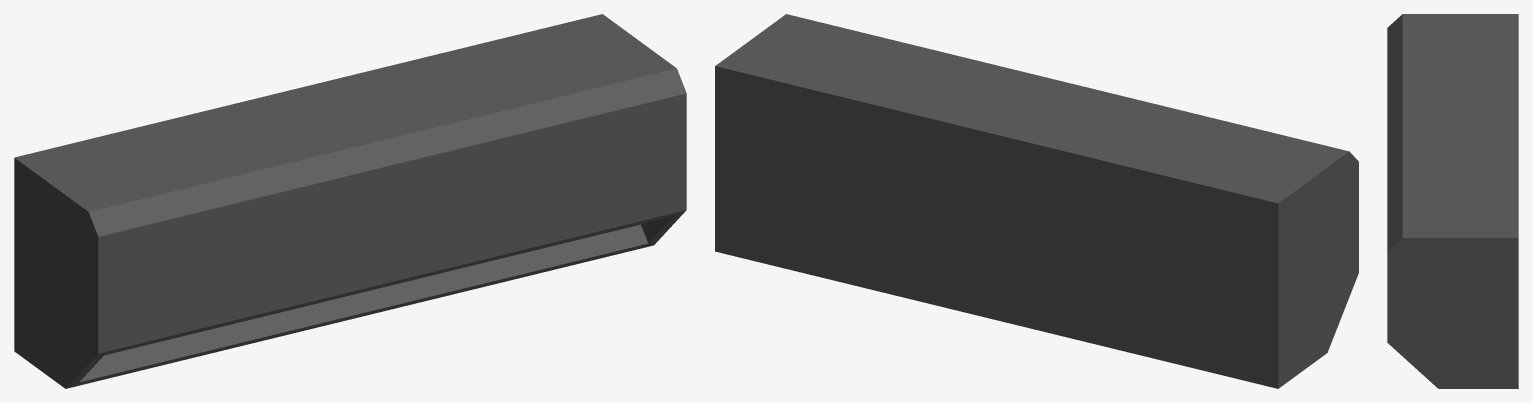
Rendered from Itr_Airconditioner3_Body_03.FBX.
3 renders of one model, left to right at view 1: azimuth 30°, elevation 25°; view 2: azimuth 150°, elevation 25°; view 3: azimuth 270°, elevation 25°, orthographic. The views are drawn at different scales.
Parts seen in each view (by area): view 1: Itr_Airconditioner3_Body_03; view 2: Itr_Airconditioner3_Body_03; view 3: Itr_Airconditioner3_Body_03.
Part boxes in pixels (x1,y1,x2,y2): Itr_Airconditioner3_Body_03: (14, 14, 686, 388); Itr_Airconditioner3_Body_03: (715, 14, 1358, 388); Itr_Airconditioner3_Body_03: (1387, 14, 1518, 388).
Bounding box in the file's own units: 53.24 × 16.76 × 13.19.
